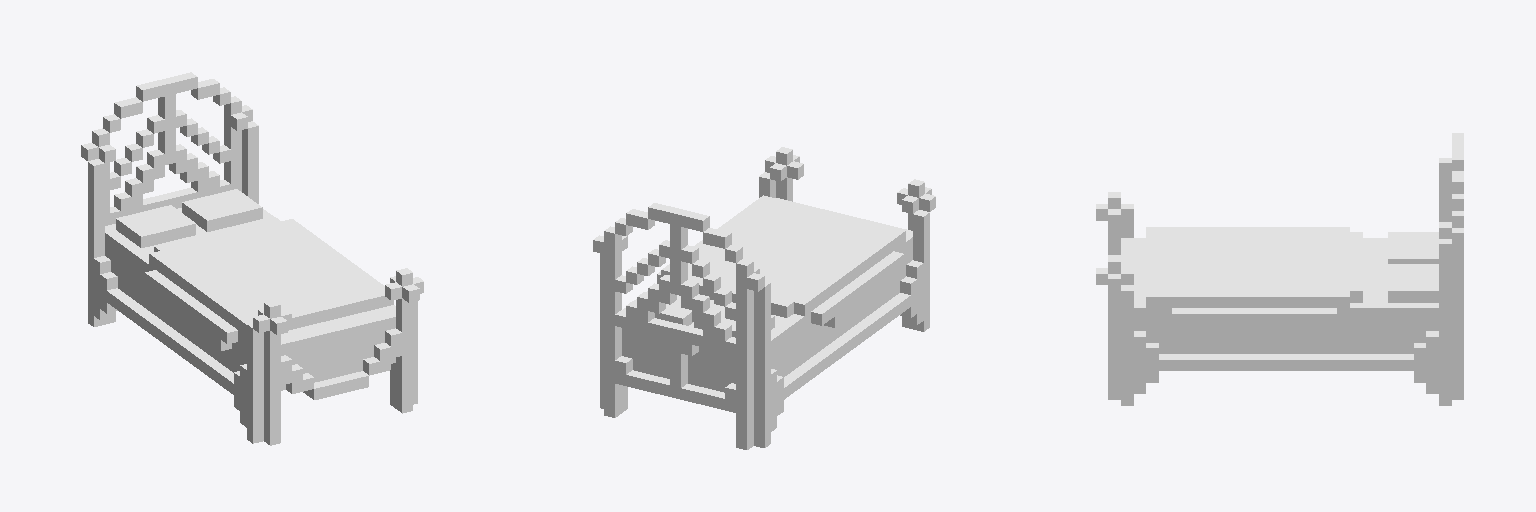
Rendered from prop_bed.obj.
3 views of the same model, side by side, from view 1: azimuth 30°, elevation 25°; view 2: azimuth 150°, elevation 25°; view 3: azimuth 270°, elevation 25° (orthographic).
Parts seen in each view (by area): view 1: object 1; view 2: object 1; view 3: object 1.
Part boxes in pixels (left/top/right/bottom): object 1: left=81, top=72, right=423, bottom=445; object 1: left=593, top=147, right=935, bottom=449; object 1: left=1096, top=133, right=1463, bottom=405.
Size of the model in its own units: 1.5 by 1.9 by 2.9.